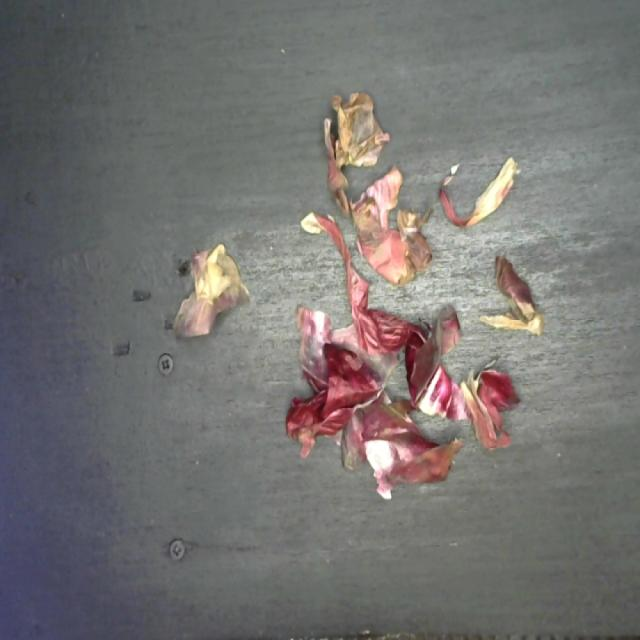biodegradable: (276, 80, 545, 507)
